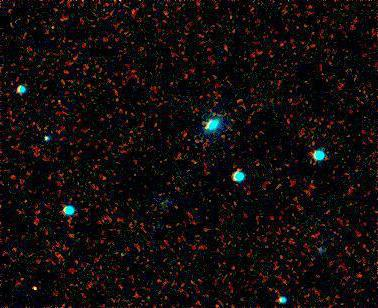star: (14, 274, 44, 304)
